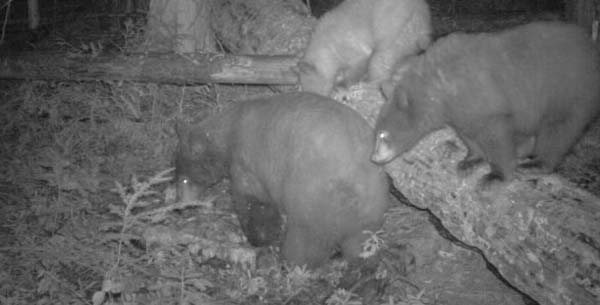bear: (160, 89, 402, 294), (363, 22, 593, 186), (292, 7, 440, 96)
